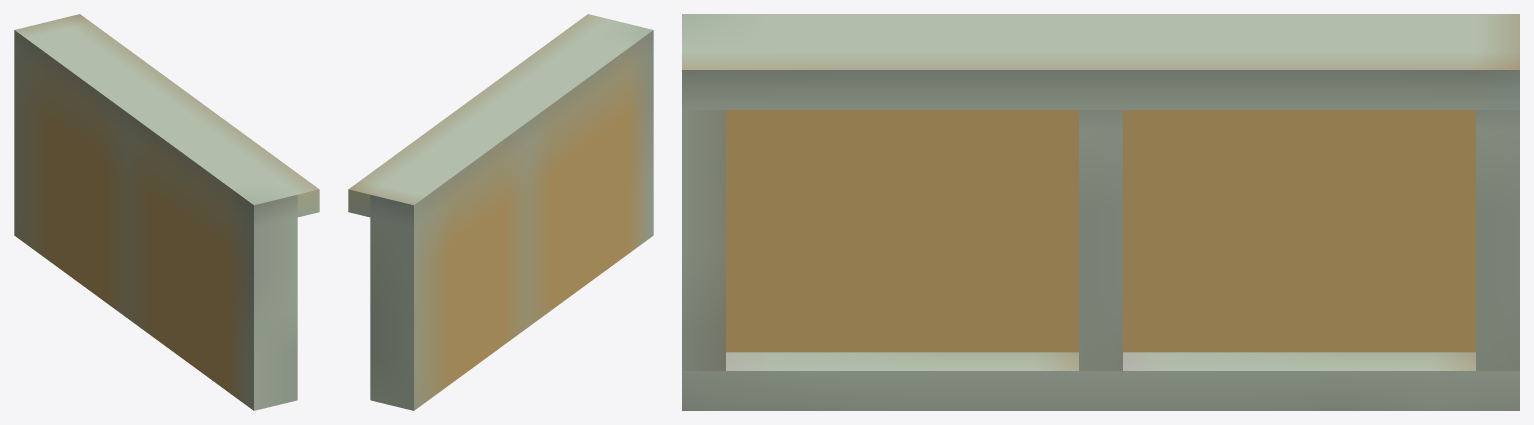
File: WindowFrameMiniInside_01.obj
3 views of the same model, side by side, from view 1: azimuth 30°, elevation 25°; view 2: azimuth 150°, elevation 25°; view 3: azimuth 270°, elevation 25° (orthographic). The views are drawn at different scales.
Parts seen in each view (by area): view 1: WindowFrameMiniInside_01; view 2: WindowFrameMiniInside_01; view 3: WindowFrameMiniInside_01.
Part boxes in pixels (x1,y1,x2,y2): WindowFrameMiniInside_01: [14, 14, 319, 410]; WindowFrameMiniInside_01: [348, 14, 653, 410]; WindowFrameMiniInside_01: [682, 14, 1519, 410].
Bounding box in the file's own units: 0.15 × 0.45 × 0.95.
